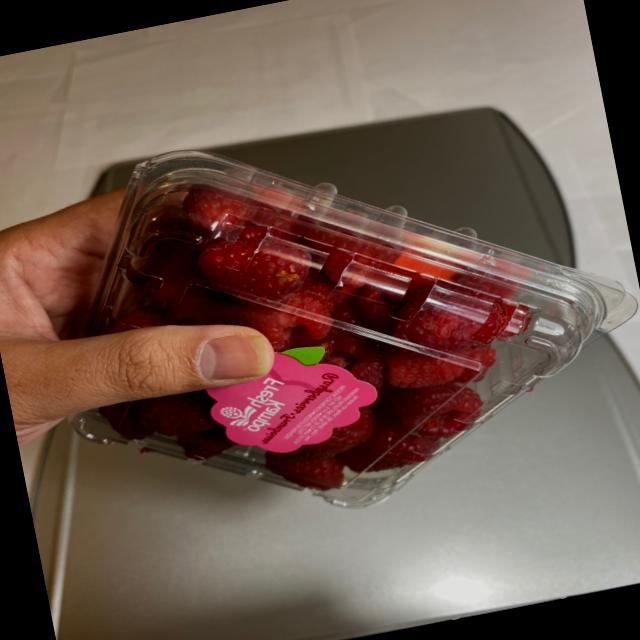raspberries: (92, 123, 570, 519)
